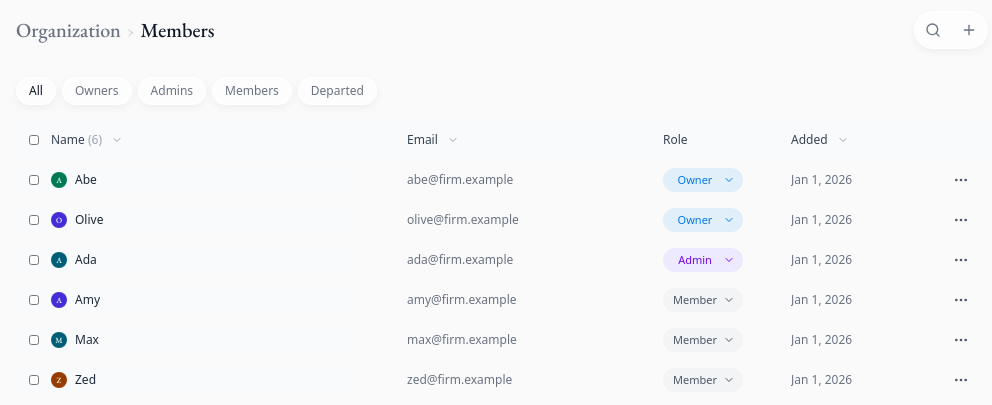
Test: OrganizationMembers › the role tabs › searches within the open tab, and counts the matches
Expected: the text "Olive" is shown, 75,212 -> 103,228
Step 1. Click the button "Members" → click(252, 91), box 212,77 -> 292,105
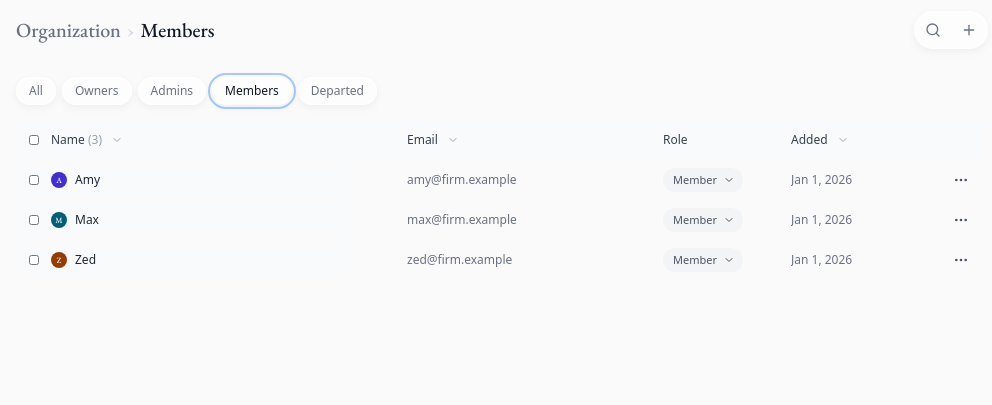
Step 2. Click the button named "Search members…" → click(933, 30), box 919,16 -> 947,44
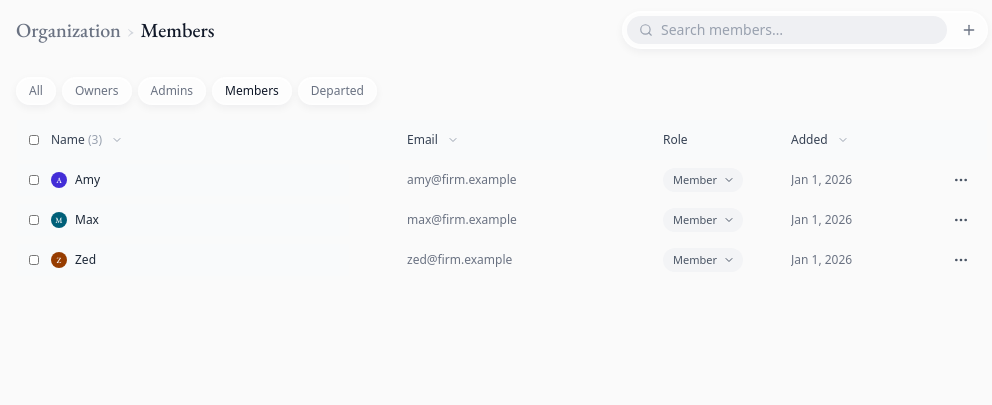
Step 3. Type "ma" into the field with placeholder "Search members…" → (798, 30), box 661,20 -> 935,40
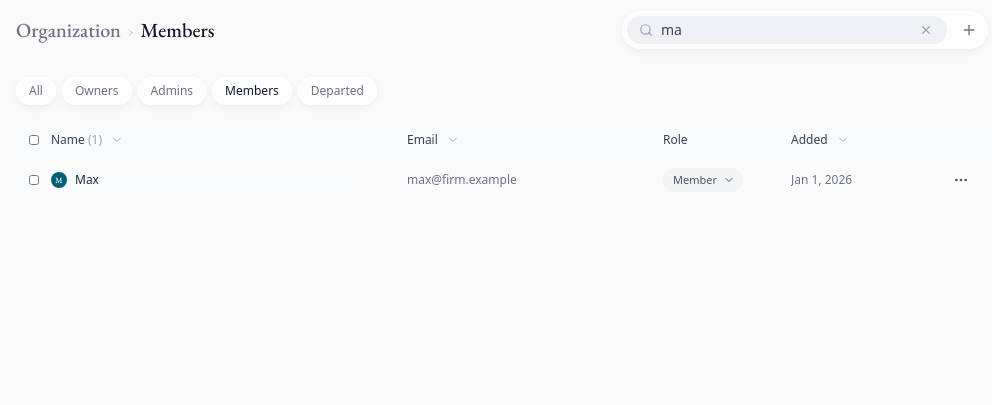
Expected: the text "(1)" is shown, 88,131 -> 102,148
Note: The search stays as the tab changes, and no owner matches it.
Step 4. Click the button "Owners" → click(97, 91), box 62,77 -> 132,105
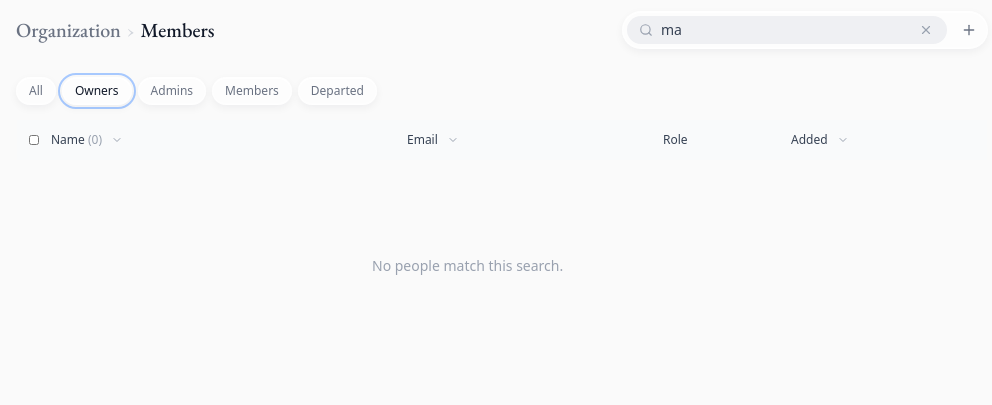
Expected: the text "No people match this search." is shown, 372,256 -> 563,276
